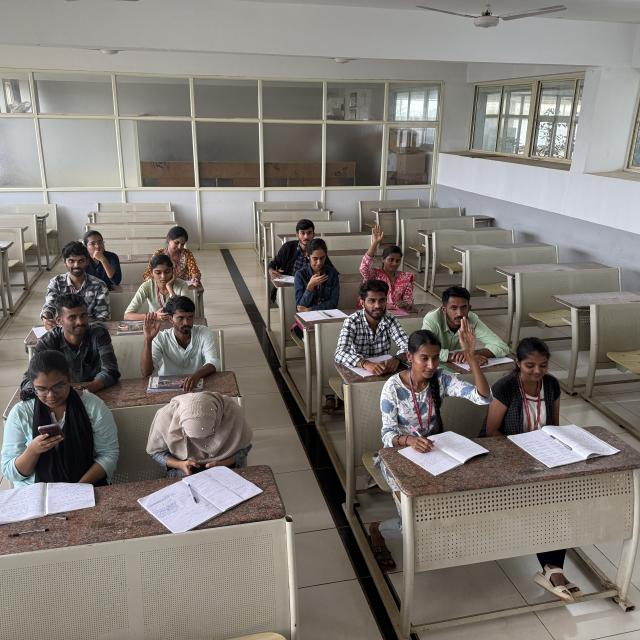Hand Rising: (388, 318, 492, 427), (139, 296, 226, 378), (357, 221, 415, 294)
Reading: (489, 331, 581, 441)
Using Phone: (0, 354, 112, 488), (146, 388, 252, 475), (127, 251, 196, 320), (292, 238, 343, 305)
Writing: (35, 244, 110, 330), (266, 219, 312, 284)
